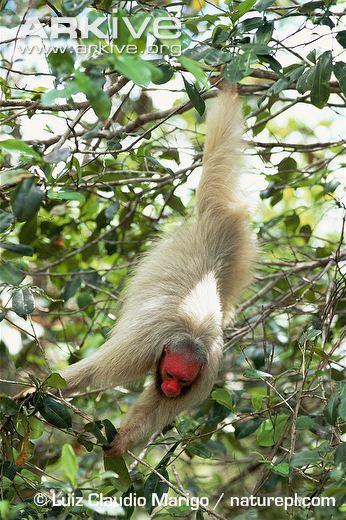monkey: (61, 69, 257, 460)
